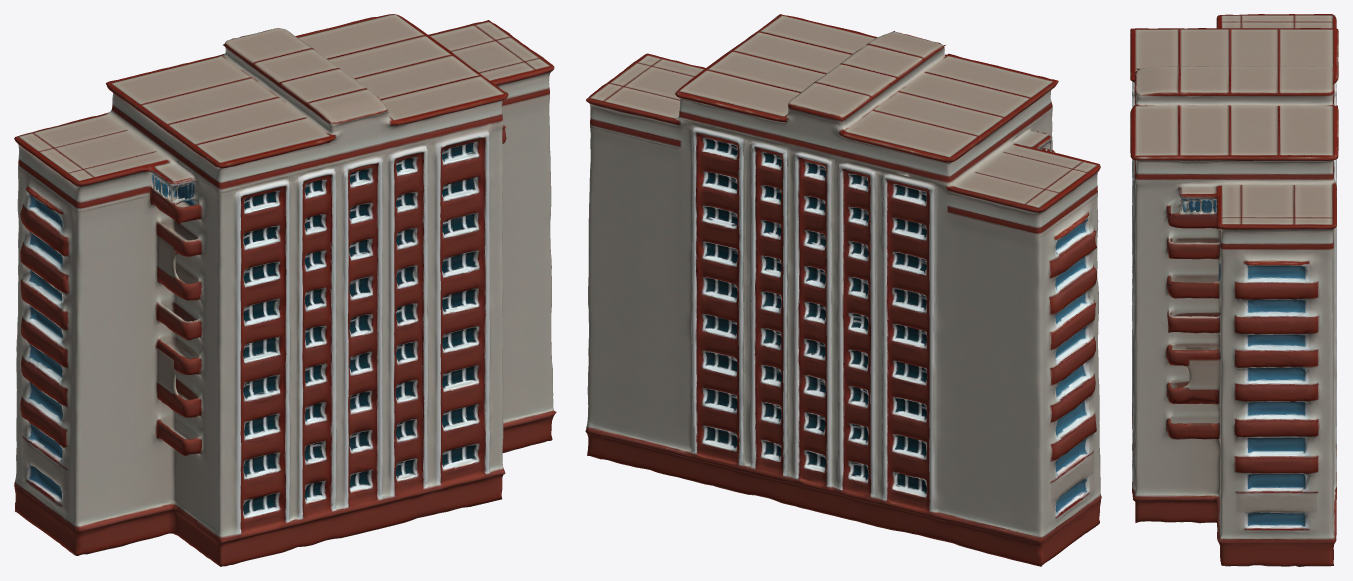
Rendered from apartment building 3d model-2.glb.
3 renders of one model, left to right at view 1: azimuth 30°, elevation 25°; view 2: azimuth 150°, elevation 25°; view 3: azimuth 270°, elevation 25°, orthographic. The views are drawn at different scales.
Visible parts, largest first — view 1: tripo_node_3ddd319e-1ad9-40f4-aaa2-c45a1d75ed49; view 2: tripo_node_3ddd319e-1ad9-40f4-aaa2-c45a1d75ed49; view 3: tripo_node_3ddd319e-1ad9-40f4-aaa2-c45a1d75ed49.
Boxes of the visible parts, x1,y1,x2,y2 form: tripo_node_3ddd319e-1ad9-40f4-aaa2-c45a1d75ed49: [14, 14, 556, 566]; tripo_node_3ddd319e-1ad9-40f4-aaa2-c45a1d75ed49: [585, 14, 1101, 566]; tripo_node_3ddd319e-1ad9-40f4-aaa2-c45a1d75ed49: [1130, 14, 1338, 566].
Size of the model in its own units: 0.981 by 0.81 by 0.3999.
1 material, 1 textured.
